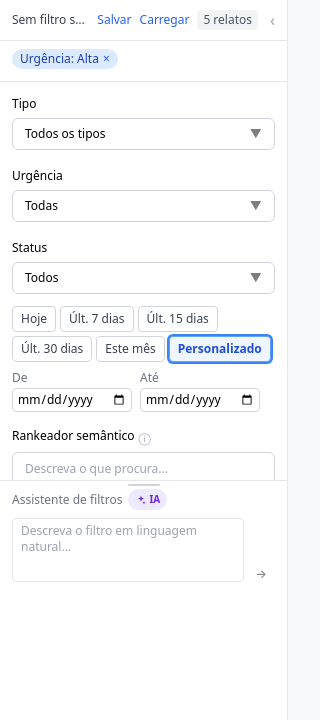
Test: FilterPanel › auto-name generated when draftFilterName is empty and filters are active
Step 1. Click the button "Salvar" → {"x": 114, "y": 20}, box [97,12,132,28]
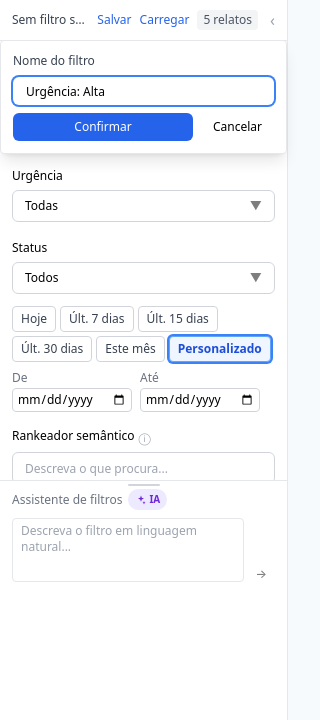
Expected: the field showing "Urgência" is shown, [13,77,274,105]
